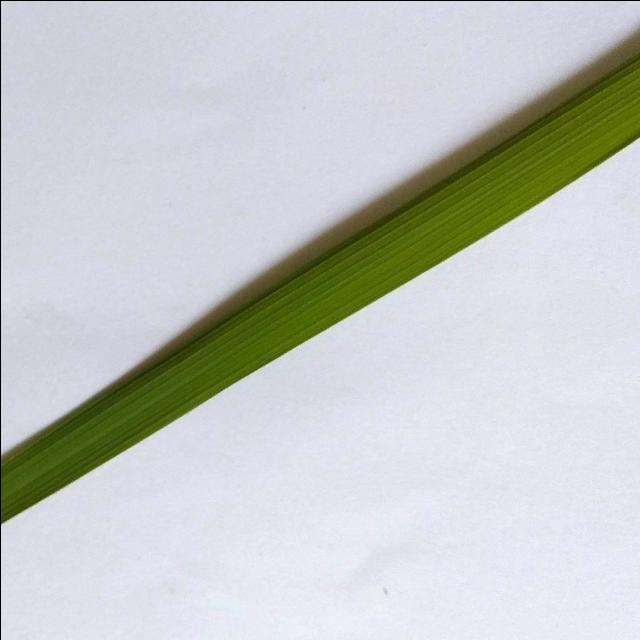healthy: (0, 32, 640, 541)
